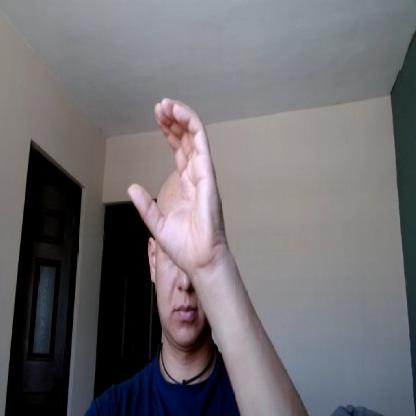C: (127, 98, 220, 265)
